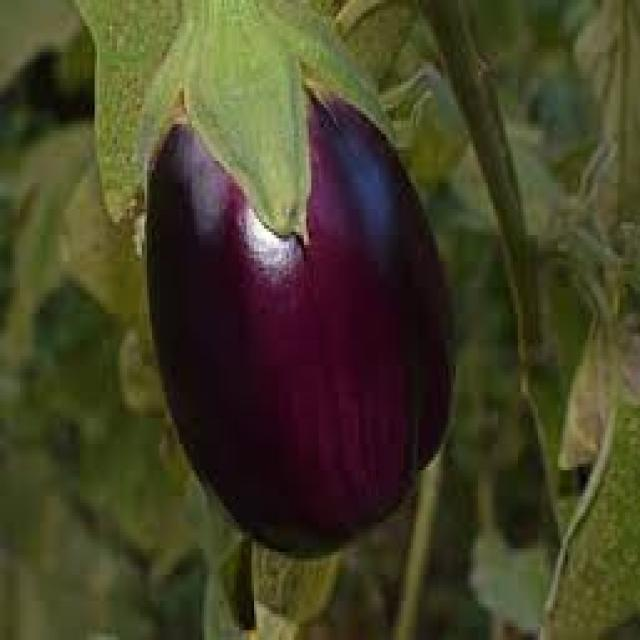Eggplant: (137, 0, 461, 562)
